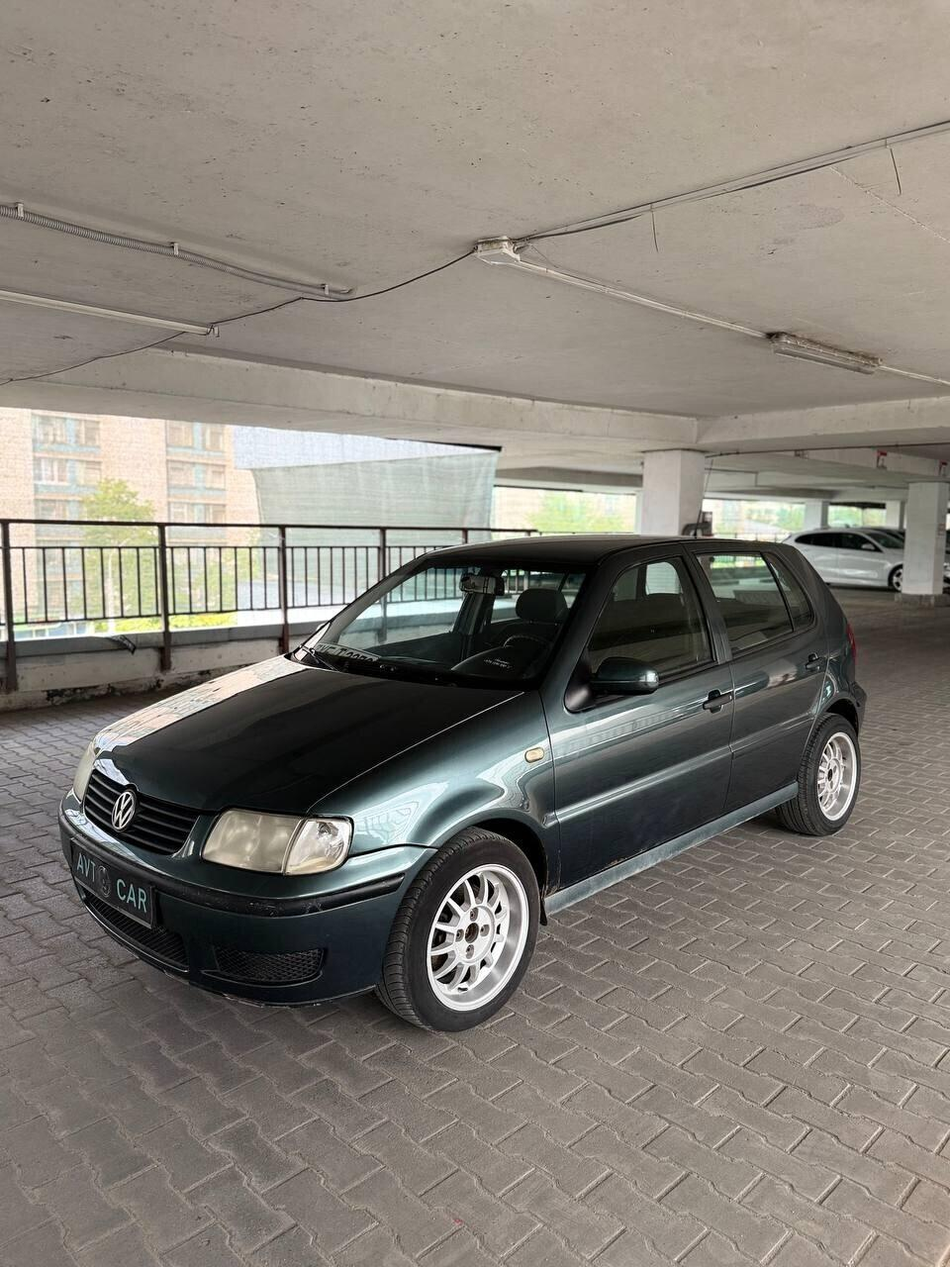Polo_2000-2002: (52, 525, 885, 1057)
